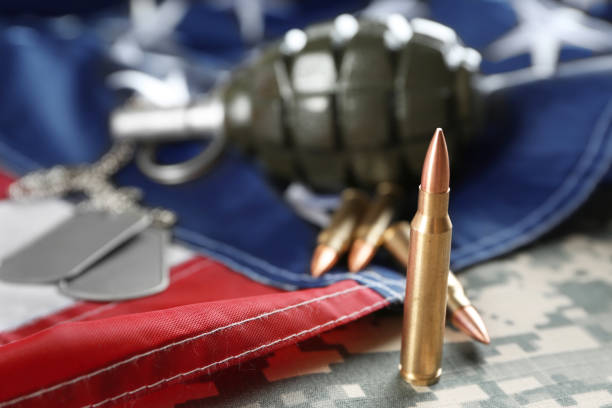e1: (110, 12, 490, 194)
